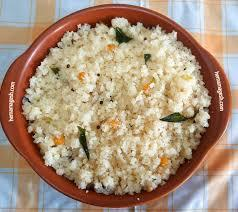upma: (24, 20, 217, 202)
